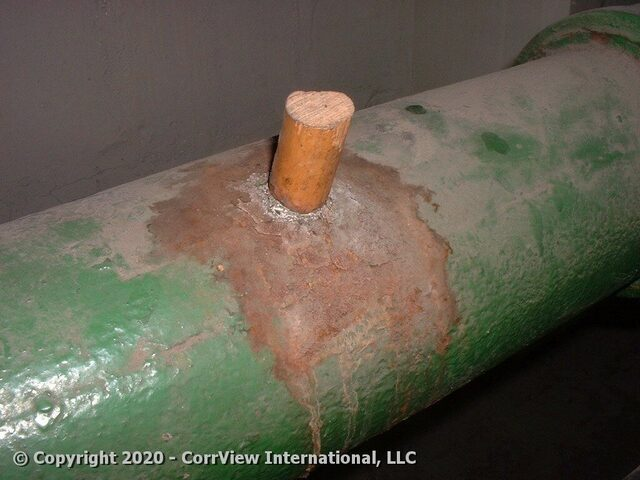Moderate: (154, 69, 462, 382)
